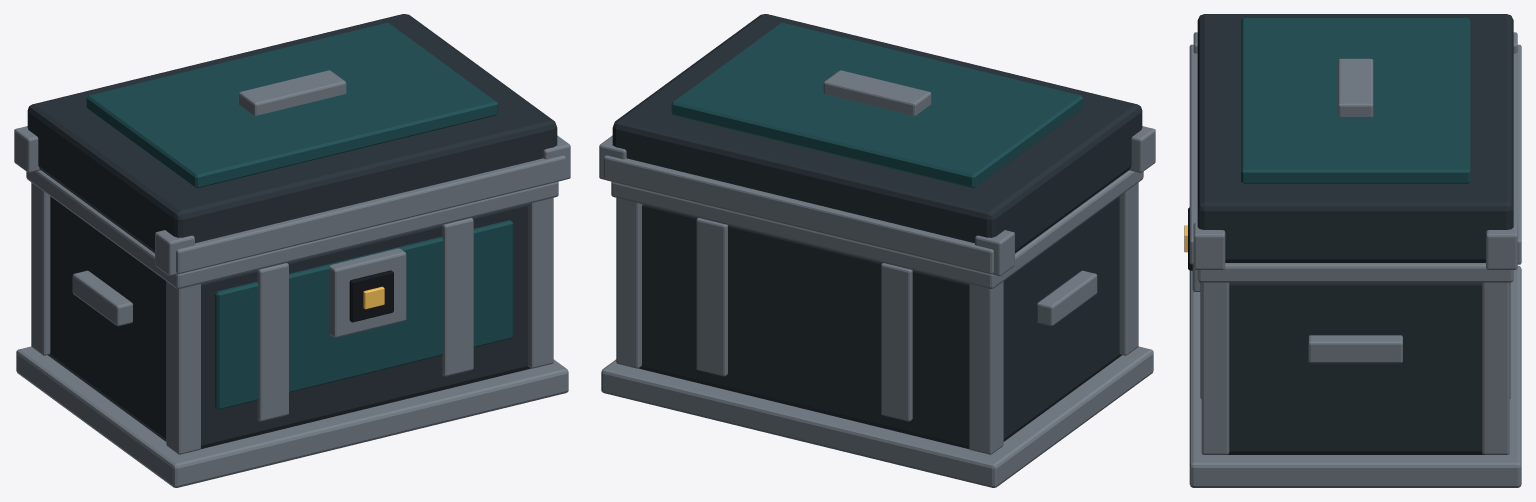
File: chest.obj
The picture shows the model from 3 angles, left to right: view 1: azimuth 30°, elevation 25°; view 2: azimuth 150°, elevation 25°; view 3: azimuth 270°, elevation 25°; orthographic projection. The views are drawn at different scales.
Parts seen in each view (by area): view 1: chest_body, chest_lid; view 2: chest_body, chest_lid; view 3: chest_lid, chest_body.
Boxes of the visible parts, left/top/right/bottom form: chest_body: left=16, top=170, right=568, bottom=487; chest_lid: left=14, top=14, right=570, bottom=275; chest_body: left=601, top=170, right=1153, bottom=487; chest_lid: left=599, top=14, right=1155, bottom=275; chest_lid: left=1189, top=14, right=1521, bottom=269; chest_body: left=1184, top=207, right=1521, bottom=487.
Size of the model in its own units: 1.22 by 0.86 by 0.8535.
